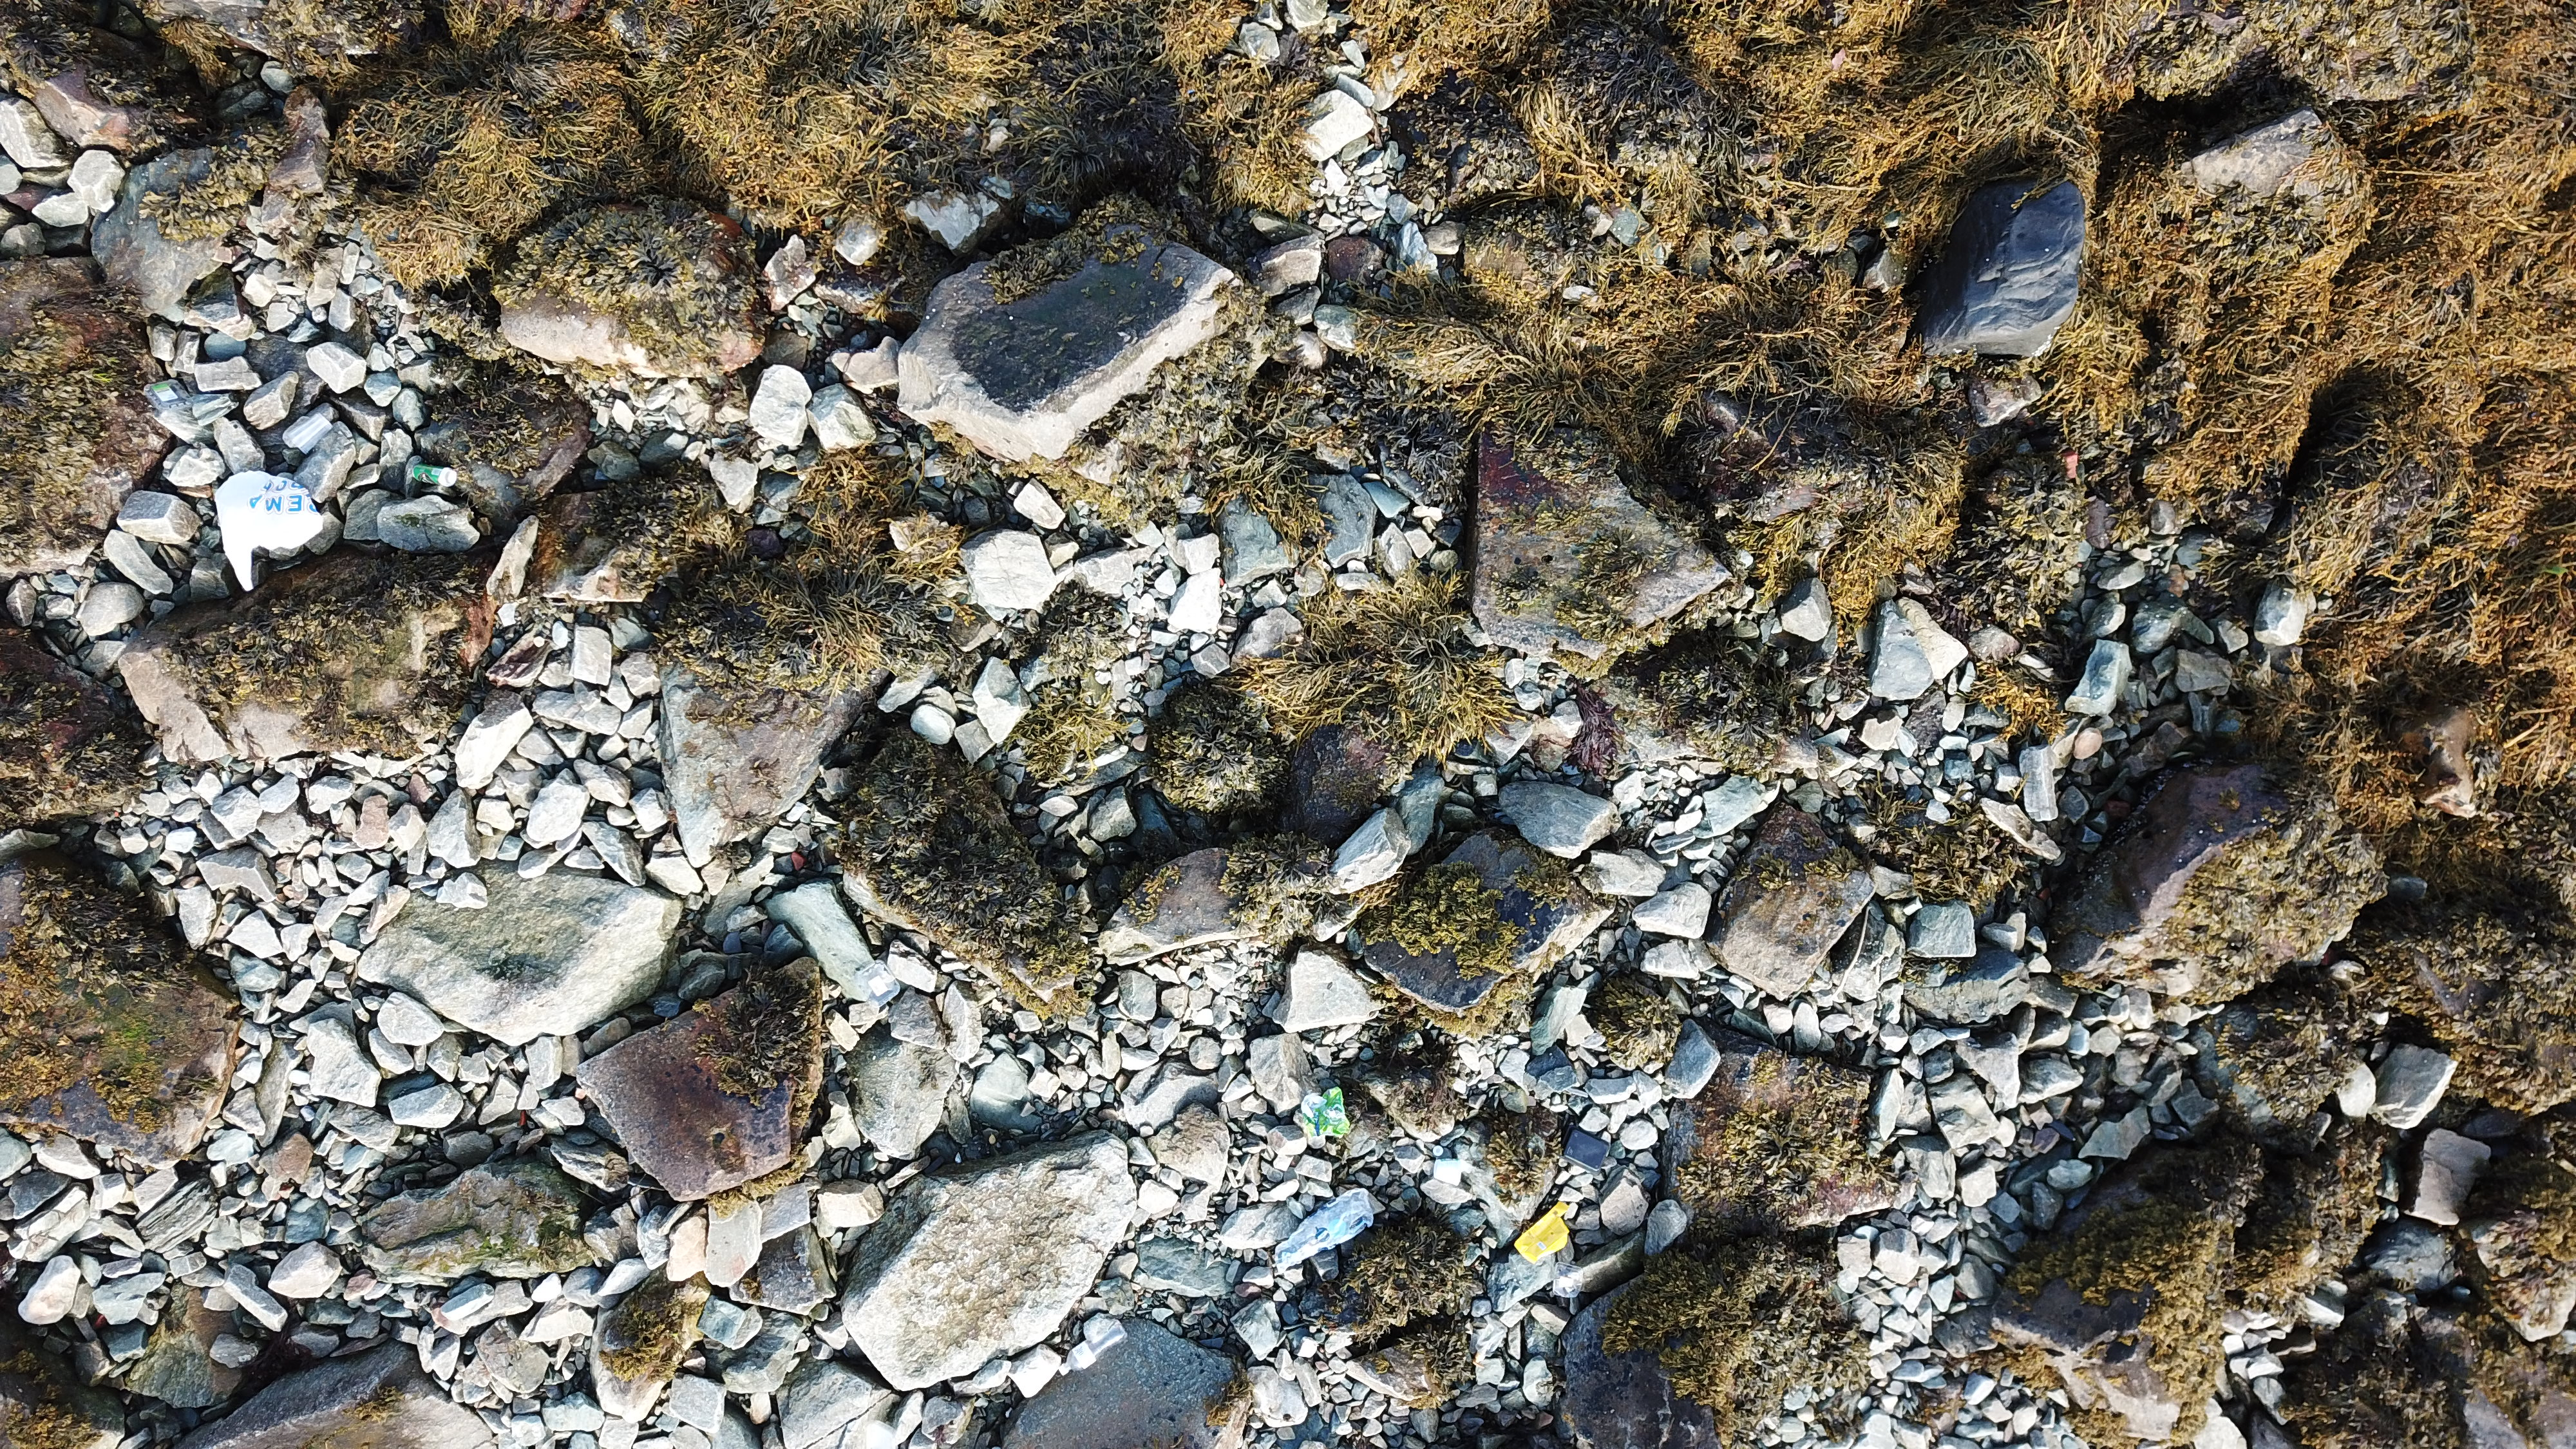Can: (409, 460, 460, 488)
Plastic: (214, 471, 326, 593), (1274, 1187, 1375, 1274), (1513, 1201, 1569, 1265), (1302, 1086, 1350, 1139), (1566, 1129, 1612, 1175), (856, 959, 901, 1007), (288, 412, 333, 458), (145, 380, 195, 414)
PlasticBottle: (1058, 1318, 1129, 1376)
